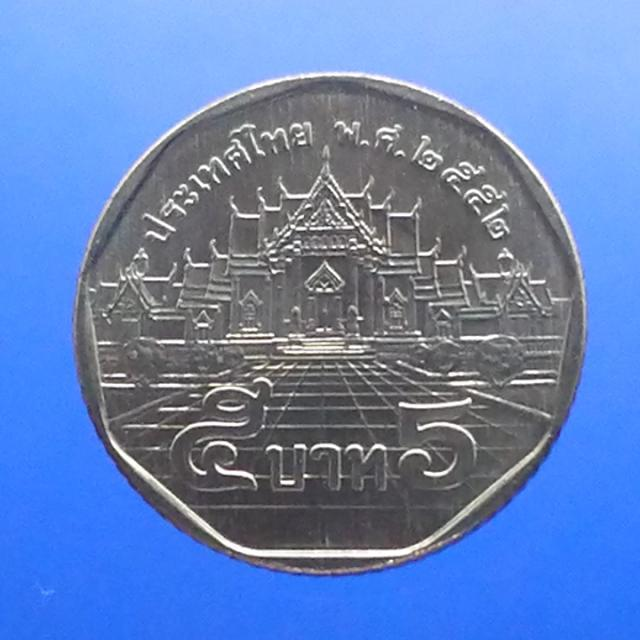5 Bath: (72, 70, 591, 570)
